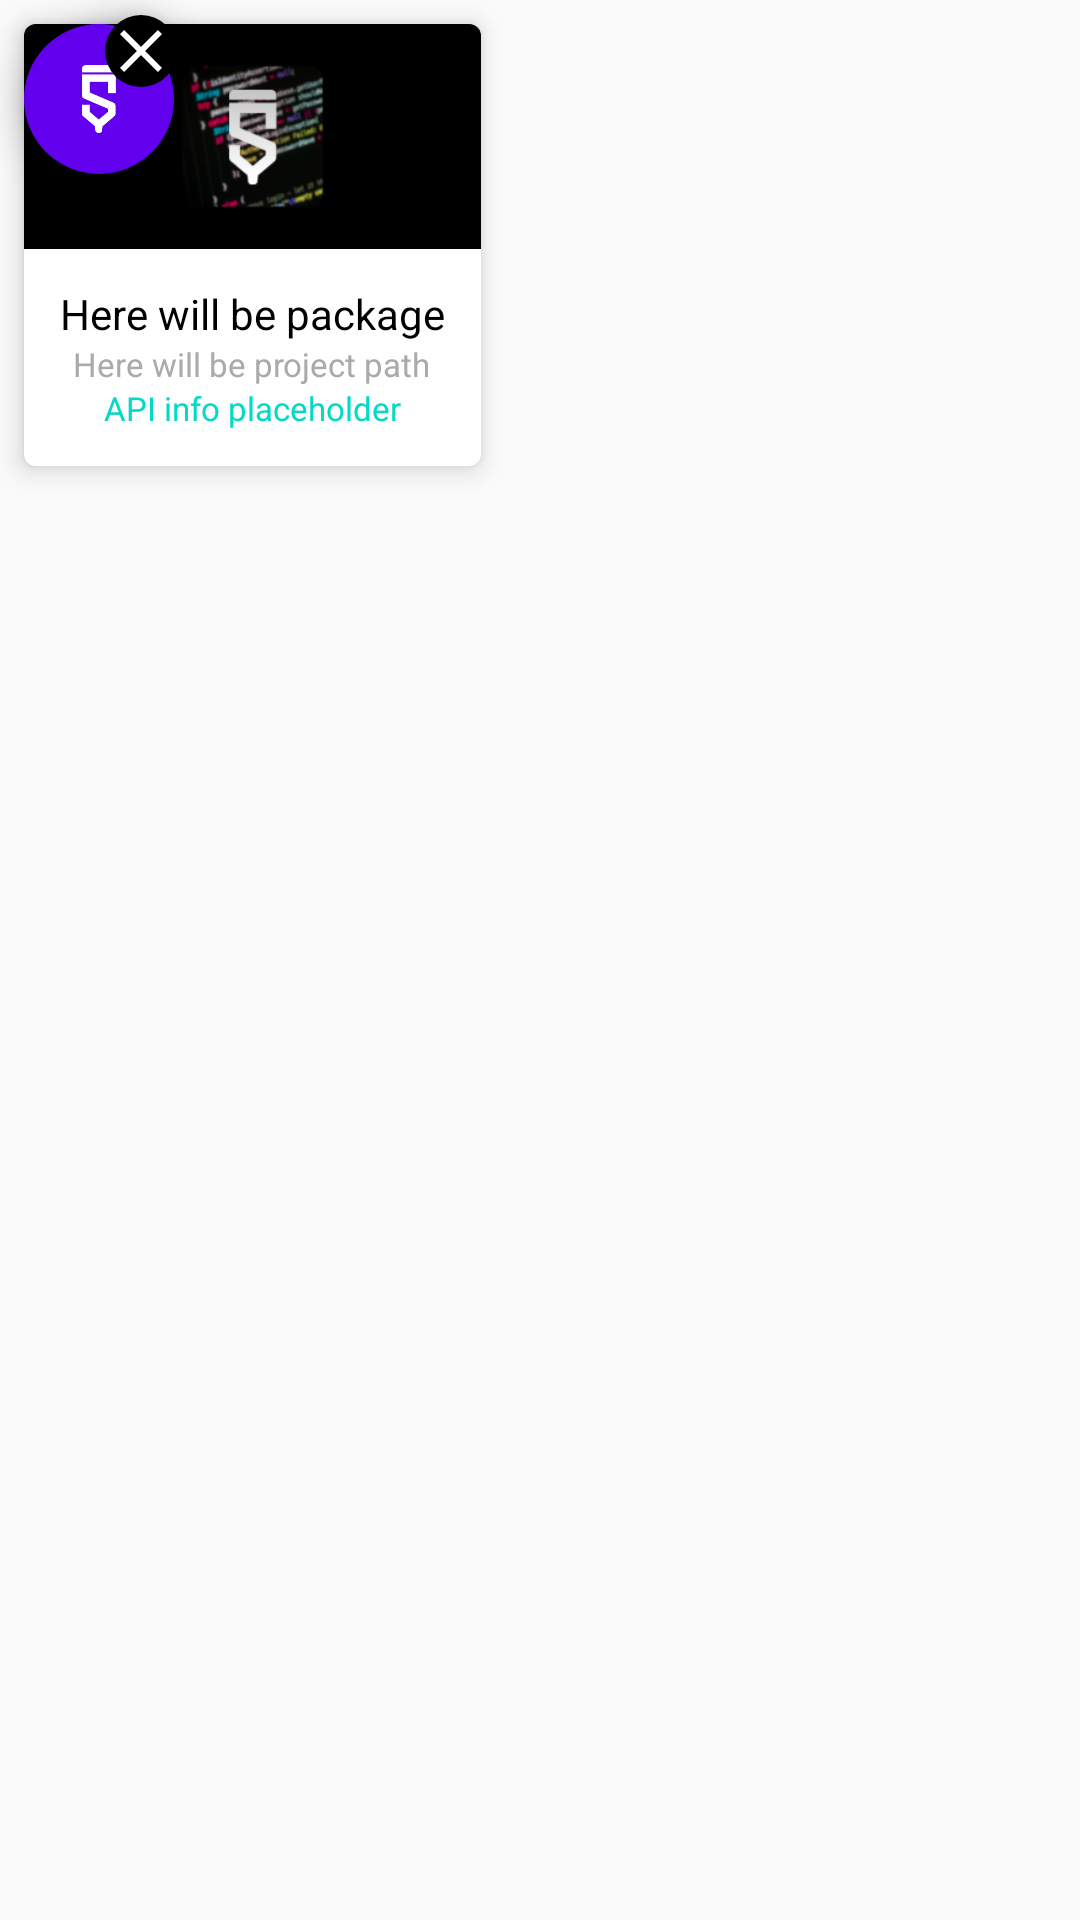

Icon click points for this 1080 × 1920 phone screenshot, format (x,y):
close: (141,51)
